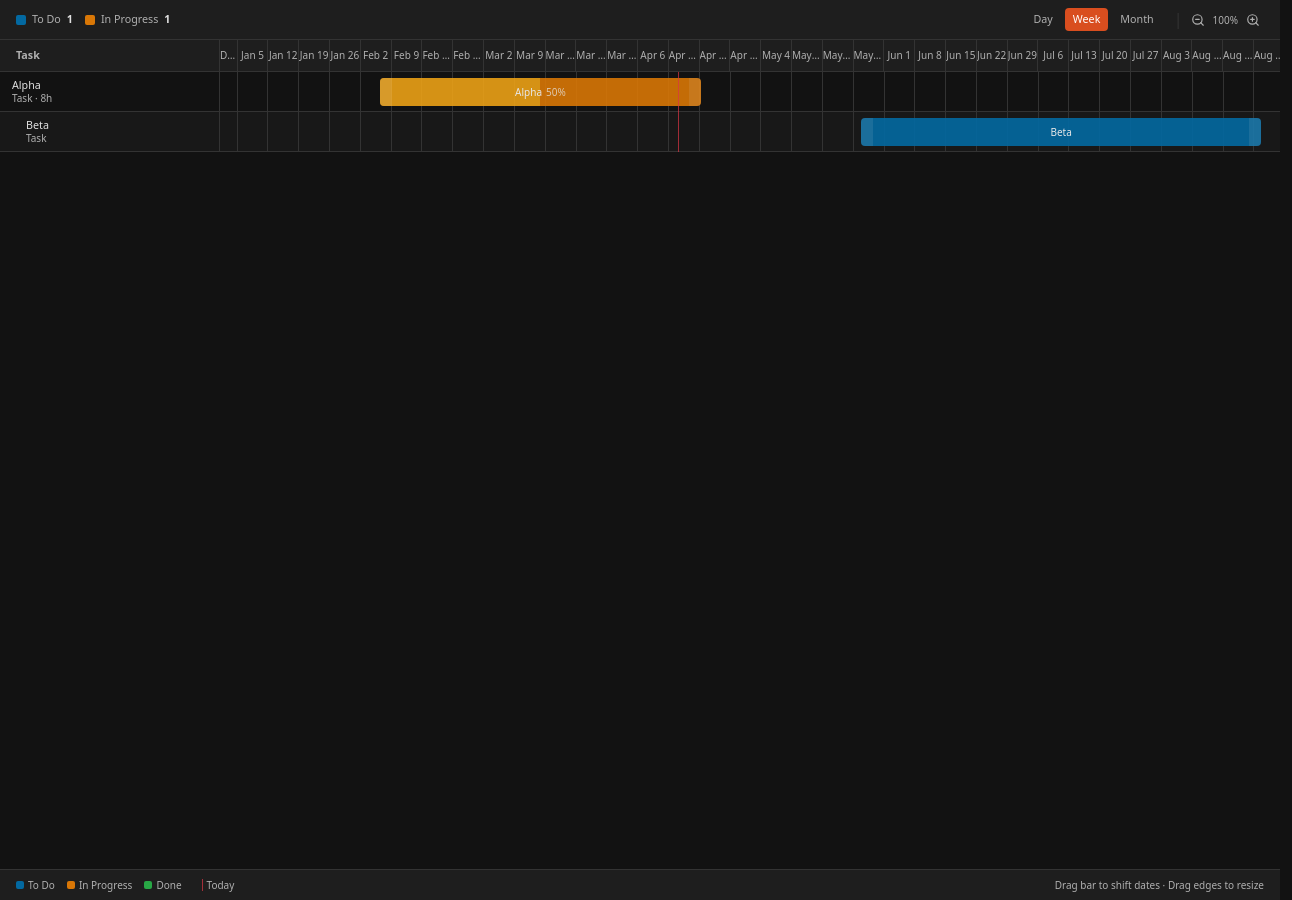
Test: GanttView › switches zoom level on button click
Click the button "Month". click: (1137, 20)
box: [1112,8,1162,31]
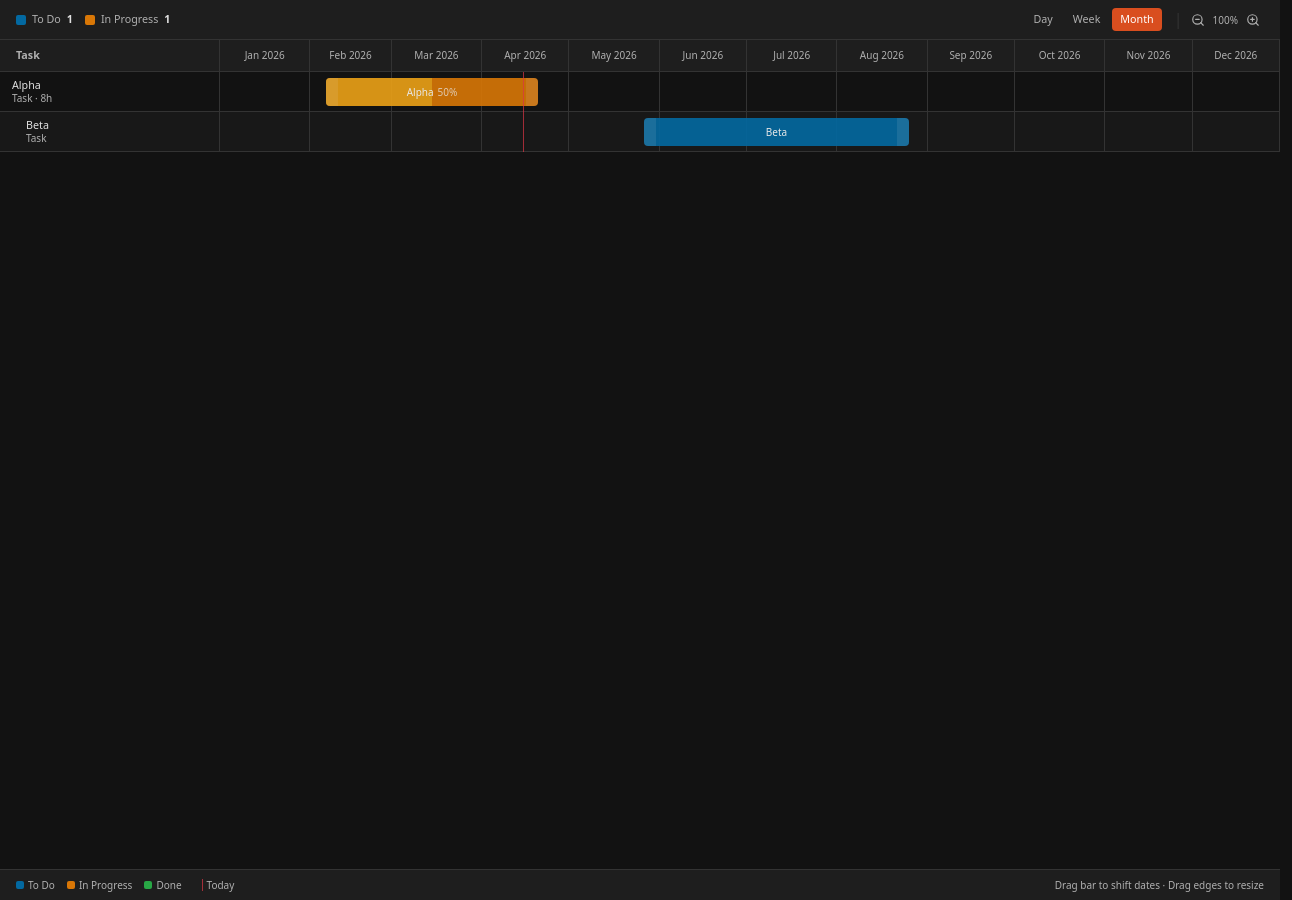
Result: the text "Jan 2026" is shown at [220,40,310,71]
